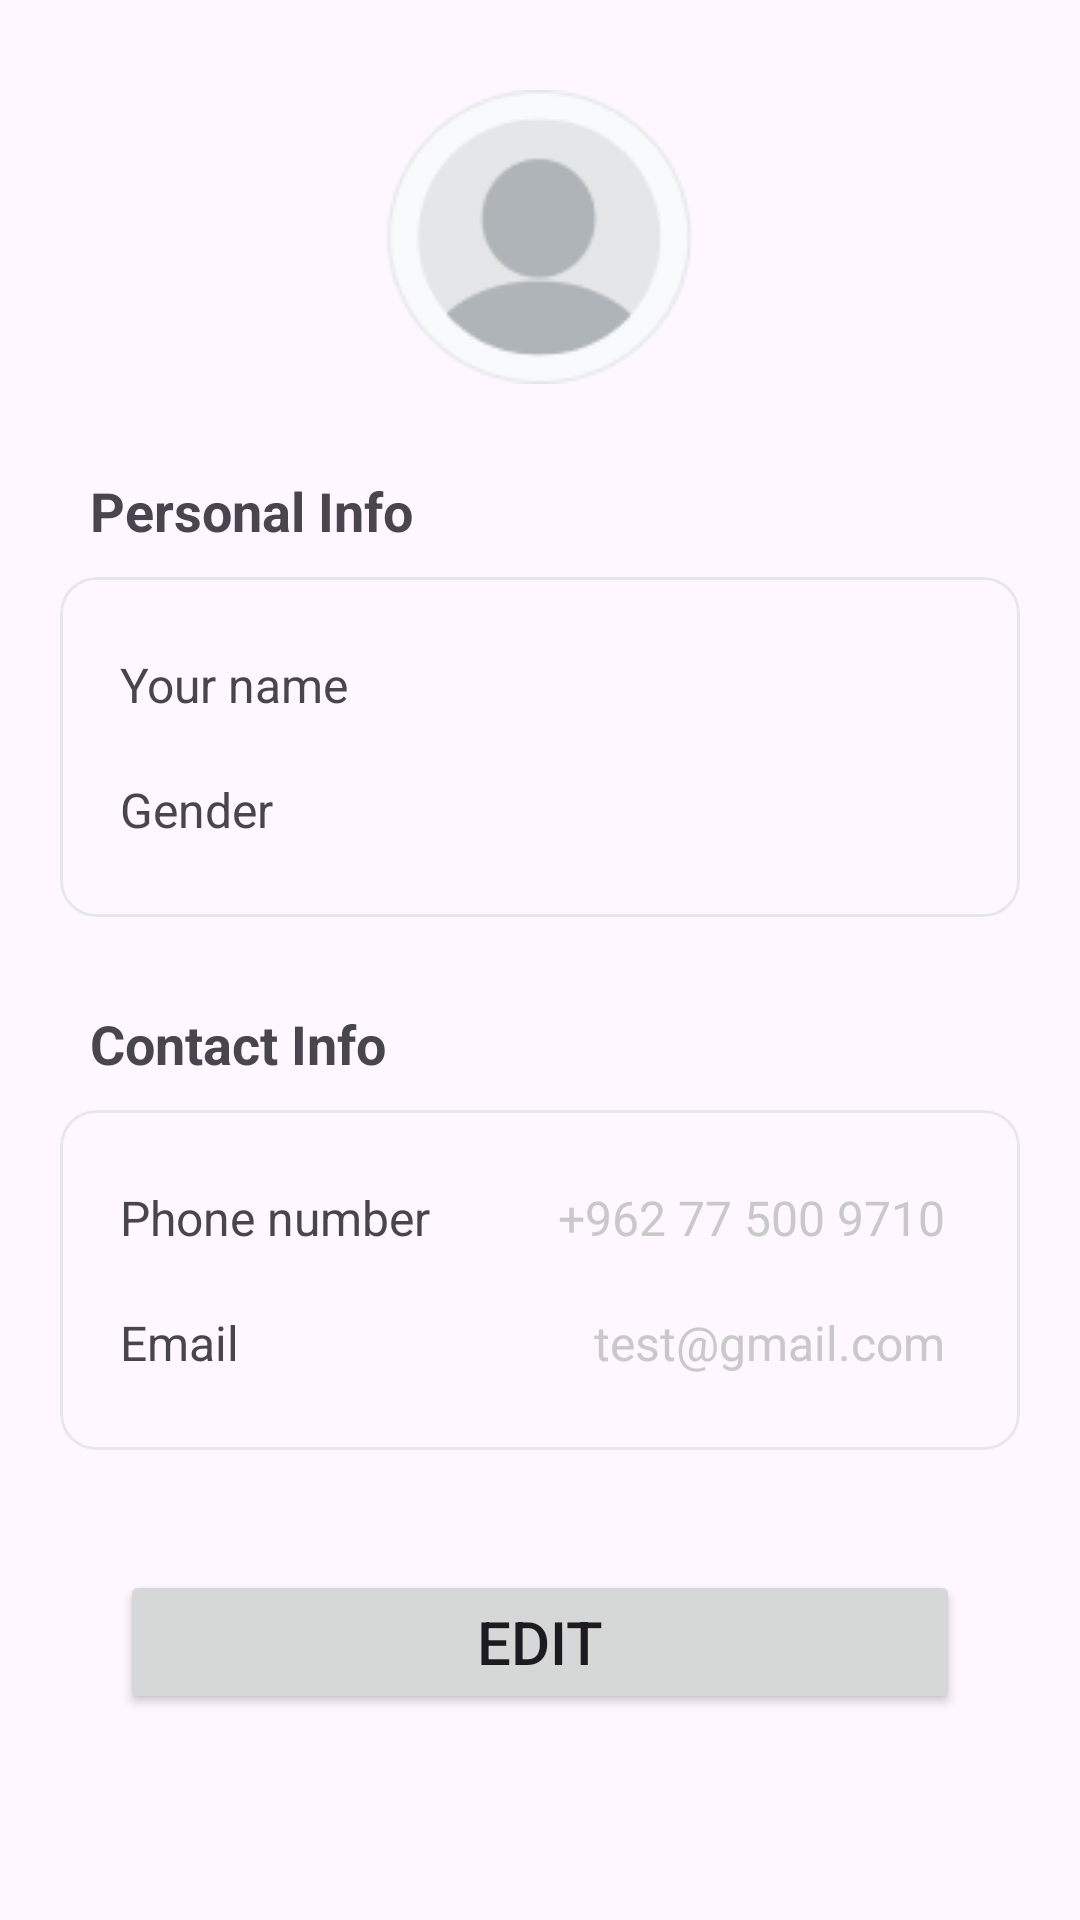

Screen size 1080 × 1920. Icon name, then its center in pixels as [x,y]:
profile: [540,237]
